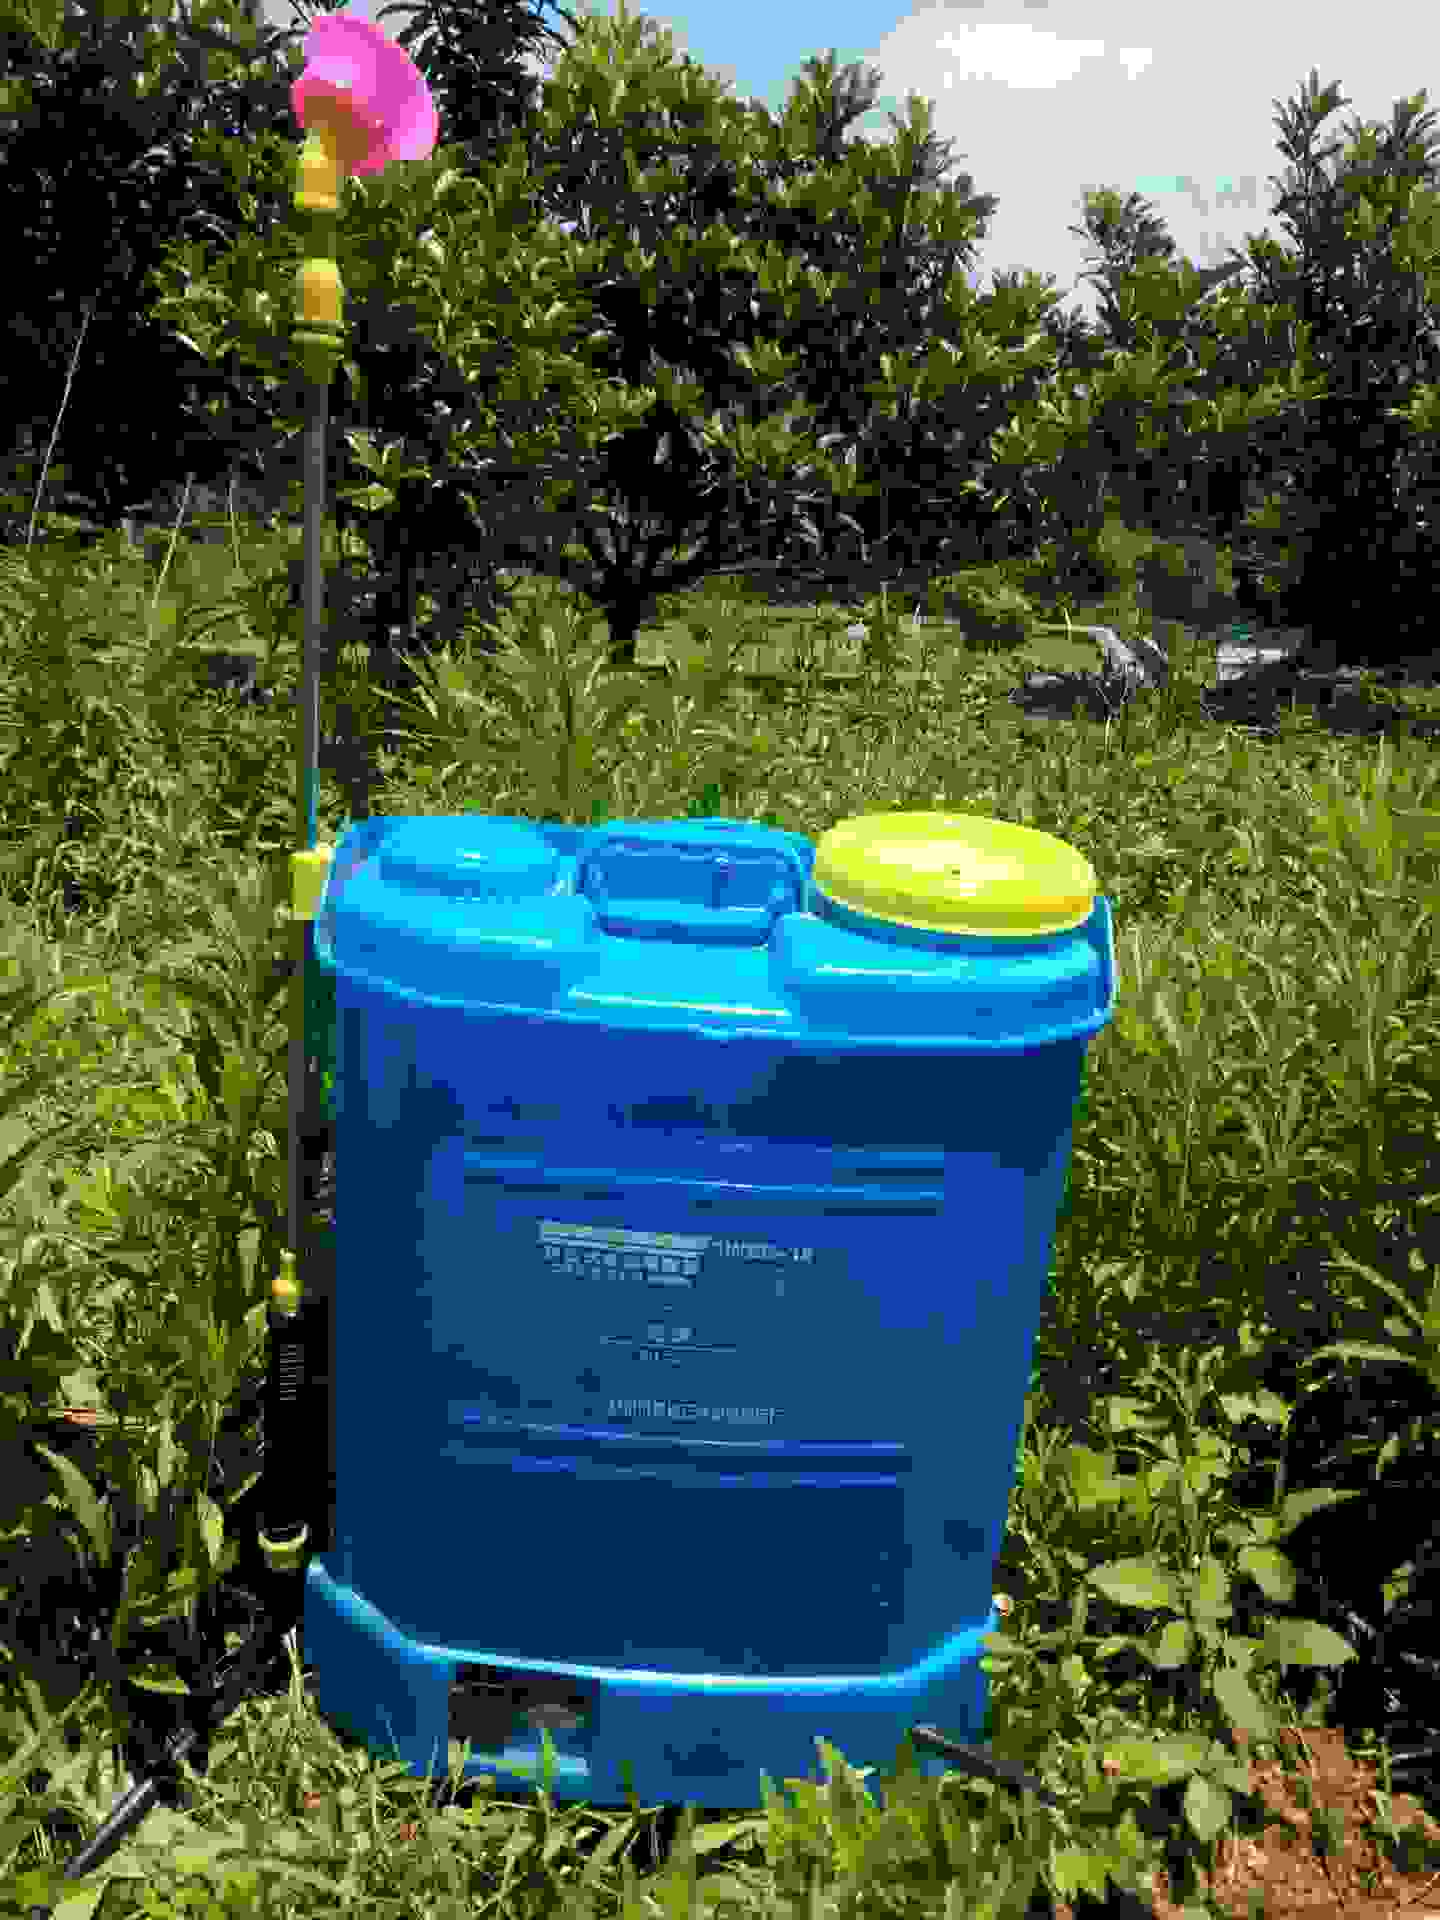berrl: (269, 786, 1128, 1804)
